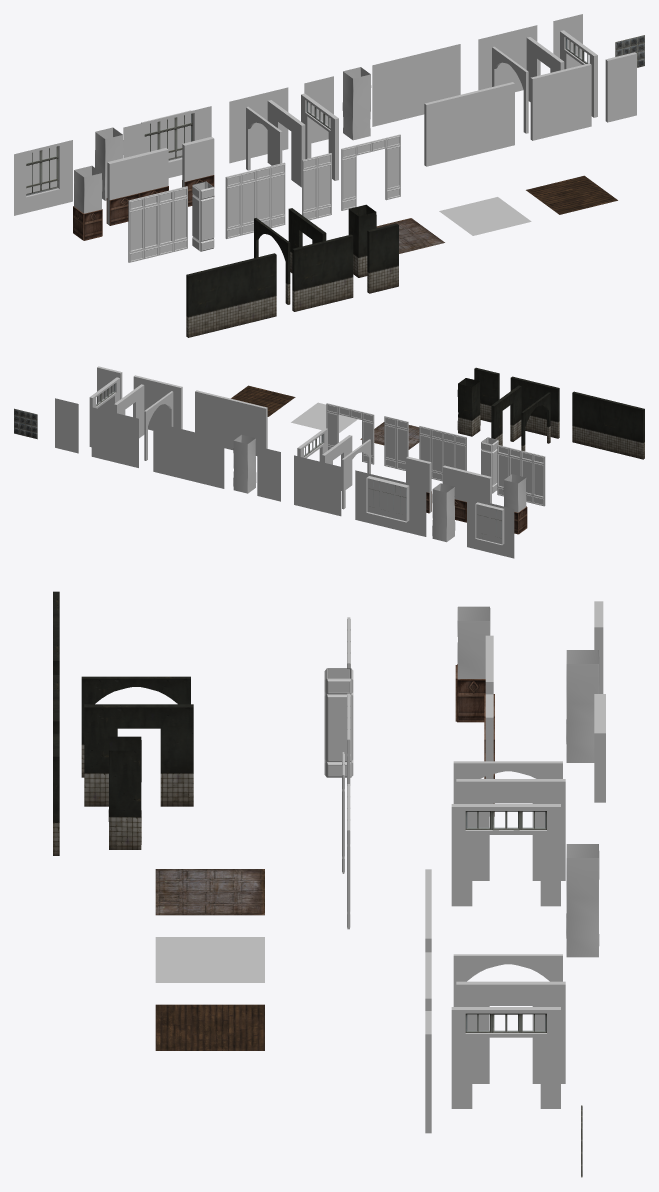
Rendered from hospital_modules_p1.FBX.
3 renders of one model, top to bottom at view 1: azimuth 30°, elevation 25°; view 2: azimuth 150°, elevation 25°; view 3: azimuth 270°, elevation 25°, orthographic. The views are drawn at different scales.
Visible parts, largest first — view 1: wall_02_l001, wall_04_l, wall_02_l, wall_02_m005, wall_04_m, wall_03_m_wind, wall_03_m, wall_01_m_wind, wall_01_l_wind, wall_05_m, wall_01_m, wall_03_m001 (+24 smaller); view 2: wall_04_l, wall_02_l, wall_01_l_wind, wall_02_l001, wall_01_m_wind, wall_01_m, wall_02_m, wall_03_m_wind, wall_03_m, wall_04_m, wall_05_m, wall_02_m005 (+24 smaller); view 3: wall_04_d, wall_02_d3, wall_02_m002, tile_01, tile_03, wall_02_m001, tile_02, wall_02_d, wall_02_x, wall_04_x, wall_05_x, wall_01_x (+7 smaller).
Part boxes in pixels (box(x1,y1,x2,y2)): wall_02_l001: box(424, 82, 514, 166); wall_04_l: box(186, 253, 276, 337); wall_02_l: box(372, 44, 460, 126); wall_02_m005: box(530, 63, 591, 140); wall_04_m: box(292, 234, 353, 311); wall_03_m_wind: box(128, 186, 187, 262); wall_03_m: box(225, 162, 285, 238); wall_01_m_wind: box(14, 140, 72, 215); wall_01_l_wind: box(123, 106, 211, 177); wall_05_m: box(106, 148, 168, 225); wall_01_m: box(229, 87, 288, 163); wall_03_m001: box(341, 134, 400, 210); wall_04_l: box(572, 391, 644, 459); wall_02_l: box(153, 422, 224, 488); wall_01_l_wind: box(355, 470, 426, 536); wall_02_l001: box(195, 390, 267, 455); wall_01_m_wind: box(467, 497, 514, 558); wall_01_m: box(294, 455, 341, 516); wall_02_m: box(91, 407, 138, 467); wall_03_m_wind: box(497, 445, 545, 506); wall_03_m: box(419, 426, 466, 481); wall_04_m: box(510, 376, 559, 438); wall_05_m: box(442, 465, 491, 522); wall_02_m005: box(133, 375, 182, 430); wall_04_d: box(84, 704, 193, 806); wall_02_d3: box(451, 804, 560, 906); wall_02_m002: box(451, 1007, 560, 1108); tile_01: box(155, 869, 264, 915); tile_03: box(155, 1004, 264, 1050); wall_02_m001: box(456, 981, 565, 1083); tile_02: box(155, 937, 264, 982); wall_02_d: box(456, 779, 565, 880); wall_02_x: box(566, 844, 599, 957); wall_04_x: box(108, 736, 141, 849); wall_05_x: box(455, 606, 490, 722); wall_01_x: box(566, 650, 599, 762).
Bounding box in the file's own units: 1063 × 102 × 505.
